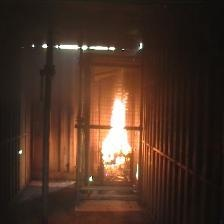fire: (98, 85, 138, 174)
